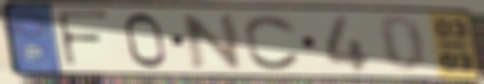0: (377, 14, 428, 75), (122, 11, 169, 70)
4: (322, 14, 375, 73)
C: (242, 13, 304, 72)
F: (53, 9, 113, 70)
N: (178, 12, 246, 72)
